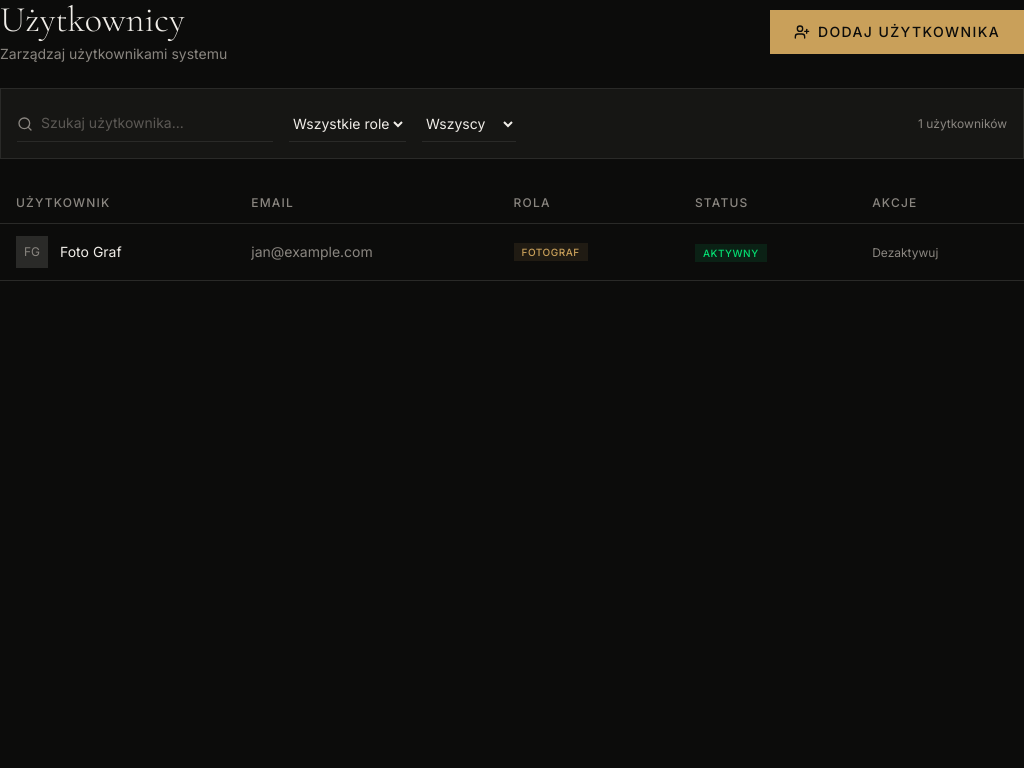
Test: AdminUsers › A photographer's details list their clients and fetch them by that photographer's id
The width and height of the screenshot is (1024, 768).
Click the text "Foto Graf": (91, 252) x1=60 y1=242 x2=122 y2=262
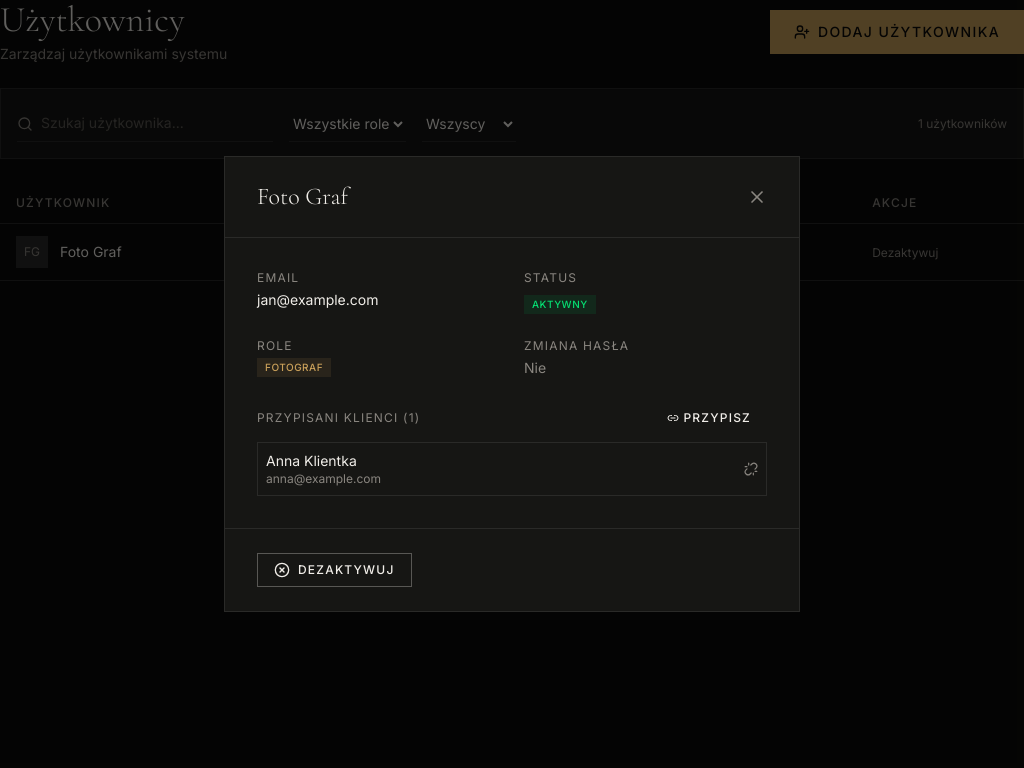
Expected: the text "Anna Klientka" is shown, x1=266 y1=452 x2=357 y2=469
Expected: the text "Przypisani klienci (1)" is shown, x1=257 y1=410 x2=420 y2=426
